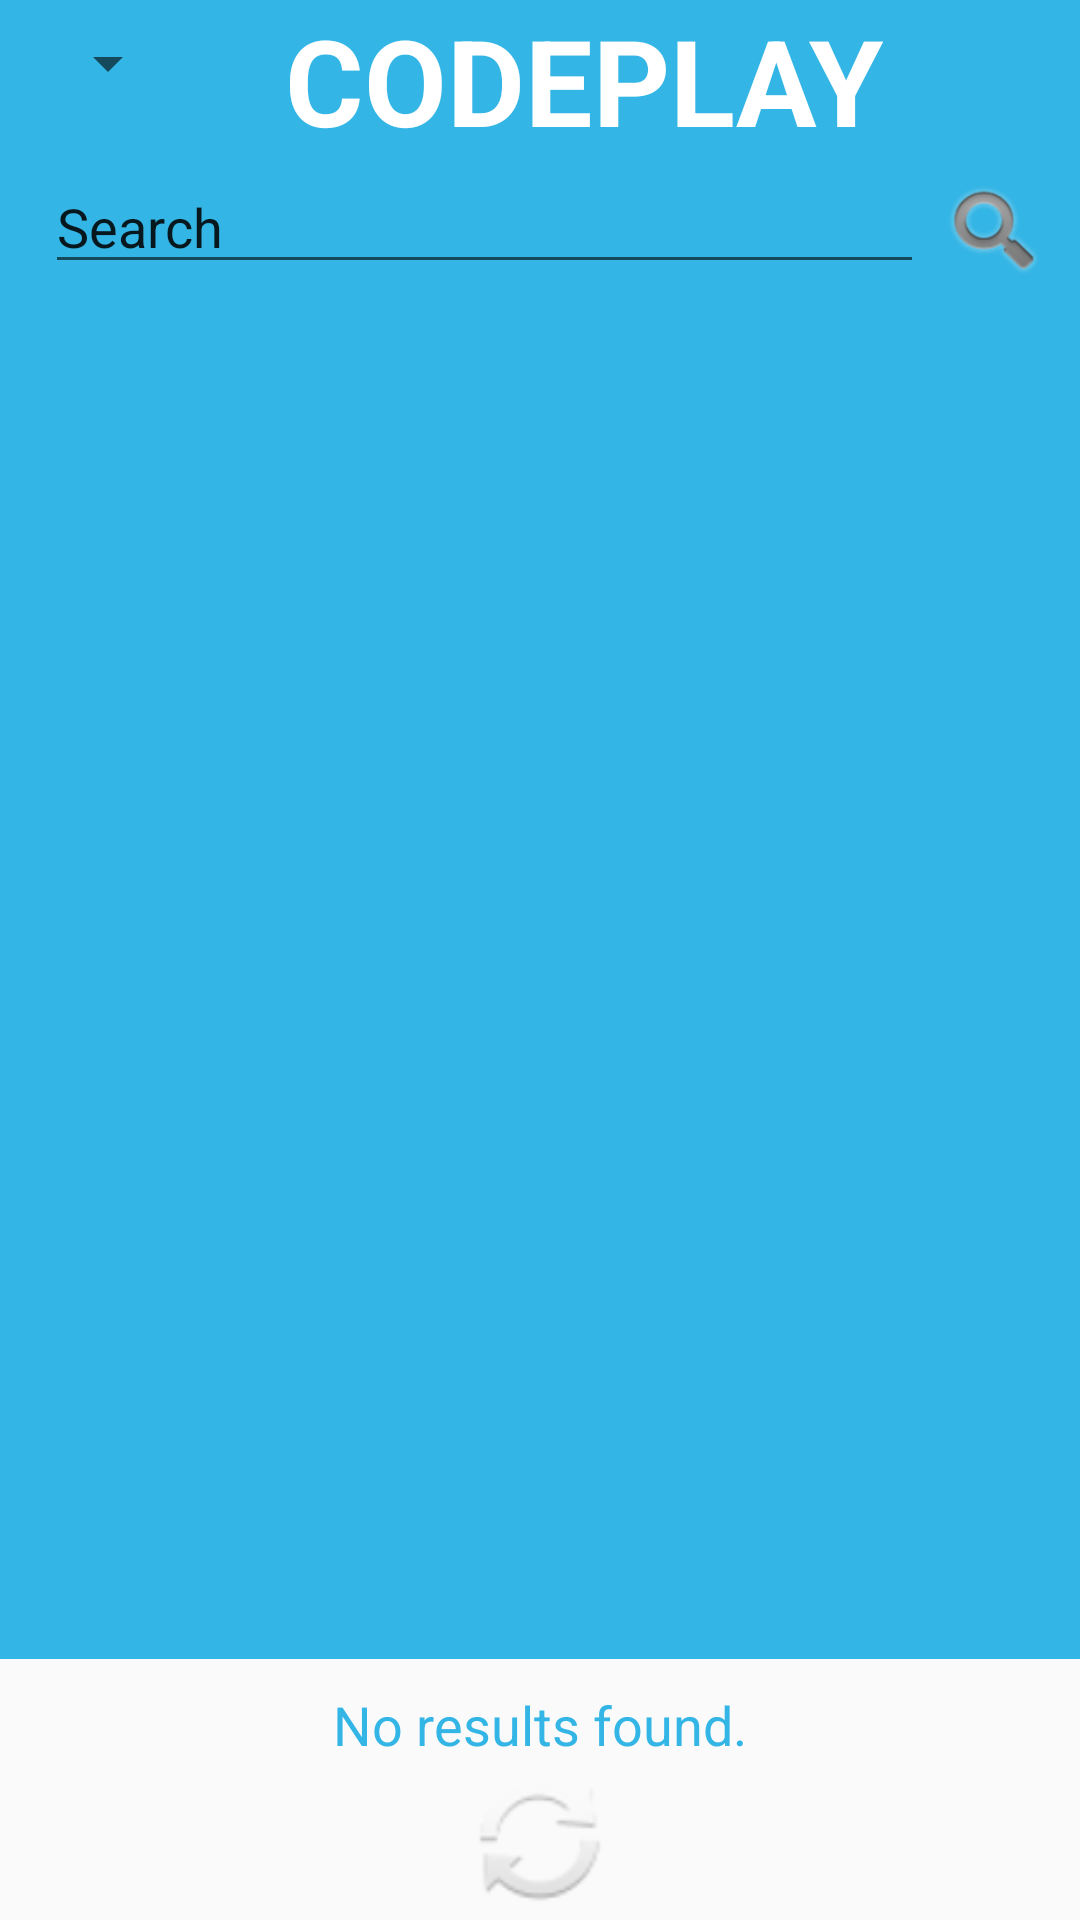

Icons on this 1080x1920 Android screen, each with the point to tap as [x,y]:
popup sync: [539,1847]
